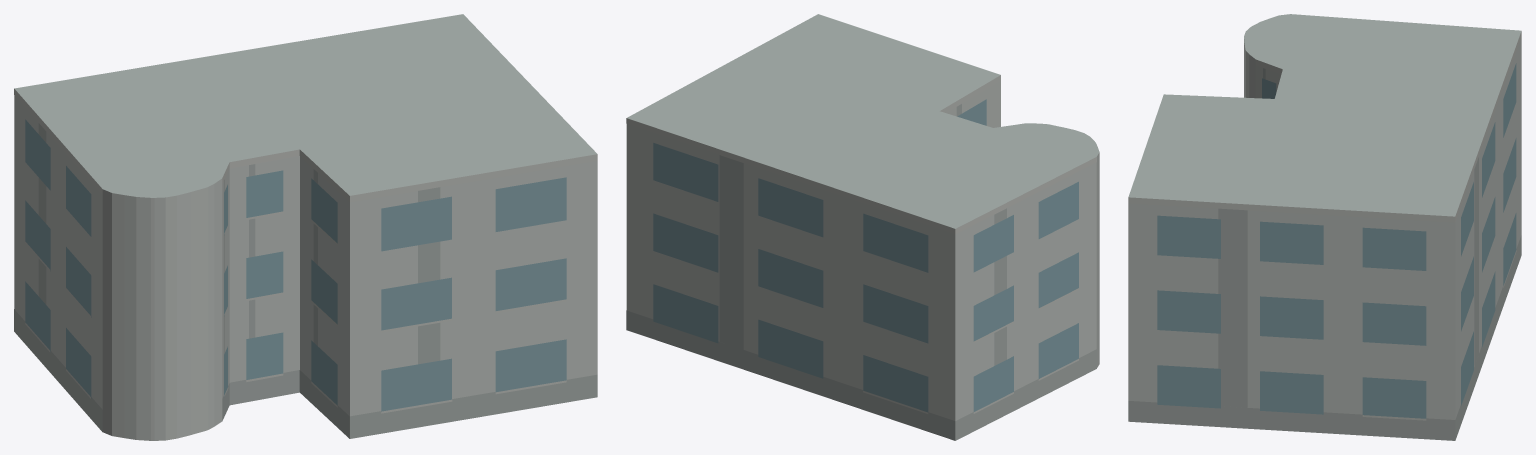
Rendered from survey-upis-32508010.glb.
3 views of the same model, side by side, from view 1: azimuth 30°, elevation 25°; view 2: azimuth 150°, elevation 25°; view 3: azimuth 270°, elevation 25° (orthographic). The views are drawn at different scales.
Visible parts, largest first — view 1: survey-upis-32508010.tmp; view 2: survey-upis-32508010.tmp; view 3: survey-upis-32508010.tmp.
Part boxes in pixels (left/top/right/bottom): survey-upis-32508010.tmp: left=14, top=14, right=597, bottom=440; survey-upis-32508010.tmp: left=626, top=14, right=1099, bottom=440; survey-upis-32508010.tmp: left=1128, top=14, right=1521, bottom=440.
Bounding box in the file's own units: 17.73 × 9.15 × 14.55.
